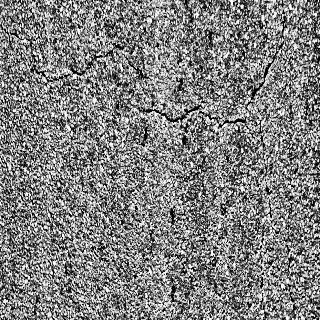crack: (245, 5, 287, 123), (134, 95, 245, 138), (32, 45, 146, 82), (256, 119, 286, 228), (282, 233, 295, 320), (258, 229, 270, 320), (2, 17, 30, 44)
